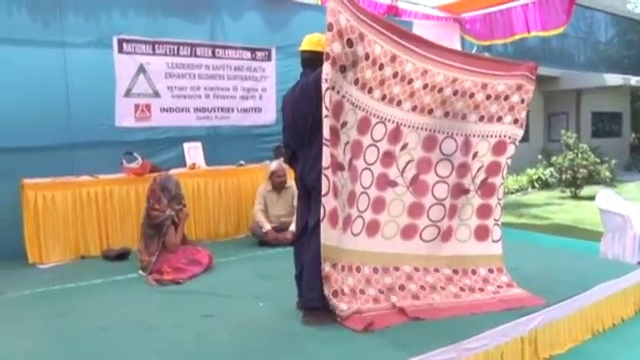helmet: (295, 31, 325, 53)
helmet_off: (150, 174, 182, 203), (267, 160, 287, 192)
helmet_on: (294, 31, 325, 81)
person: (278, 33, 333, 332), (142, 172, 206, 279), (251, 159, 298, 247)
